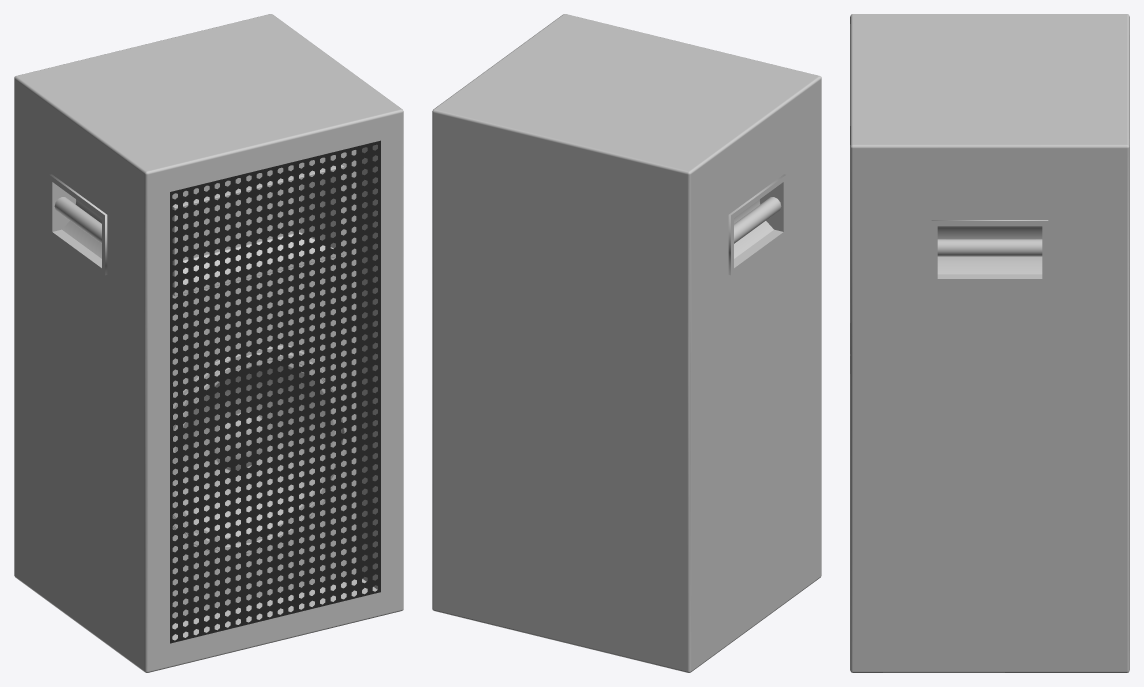
File: PA_Speaker.fbx
3 renders of one model, left to right at view 1: azimuth 30°, elevation 25°; view 2: azimuth 150°, elevation 25°; view 3: azimuth 270°, elevation 25°, orthographic. The views are drawn at different scales.
Visible parts, largest first — view 1: PA_Speaker; view 2: PA_Speaker; view 3: PA_Speaker.
Part boxes in pixels (bbox=[...]): PA_Speaker: bbox=[14, 14, 403, 672]; PA_Speaker: bbox=[432, 14, 821, 672]; PA_Speaker: bbox=[850, 14, 1129, 672].
Size of the model in its own units: 0.5499 by 0.48 by 1.
